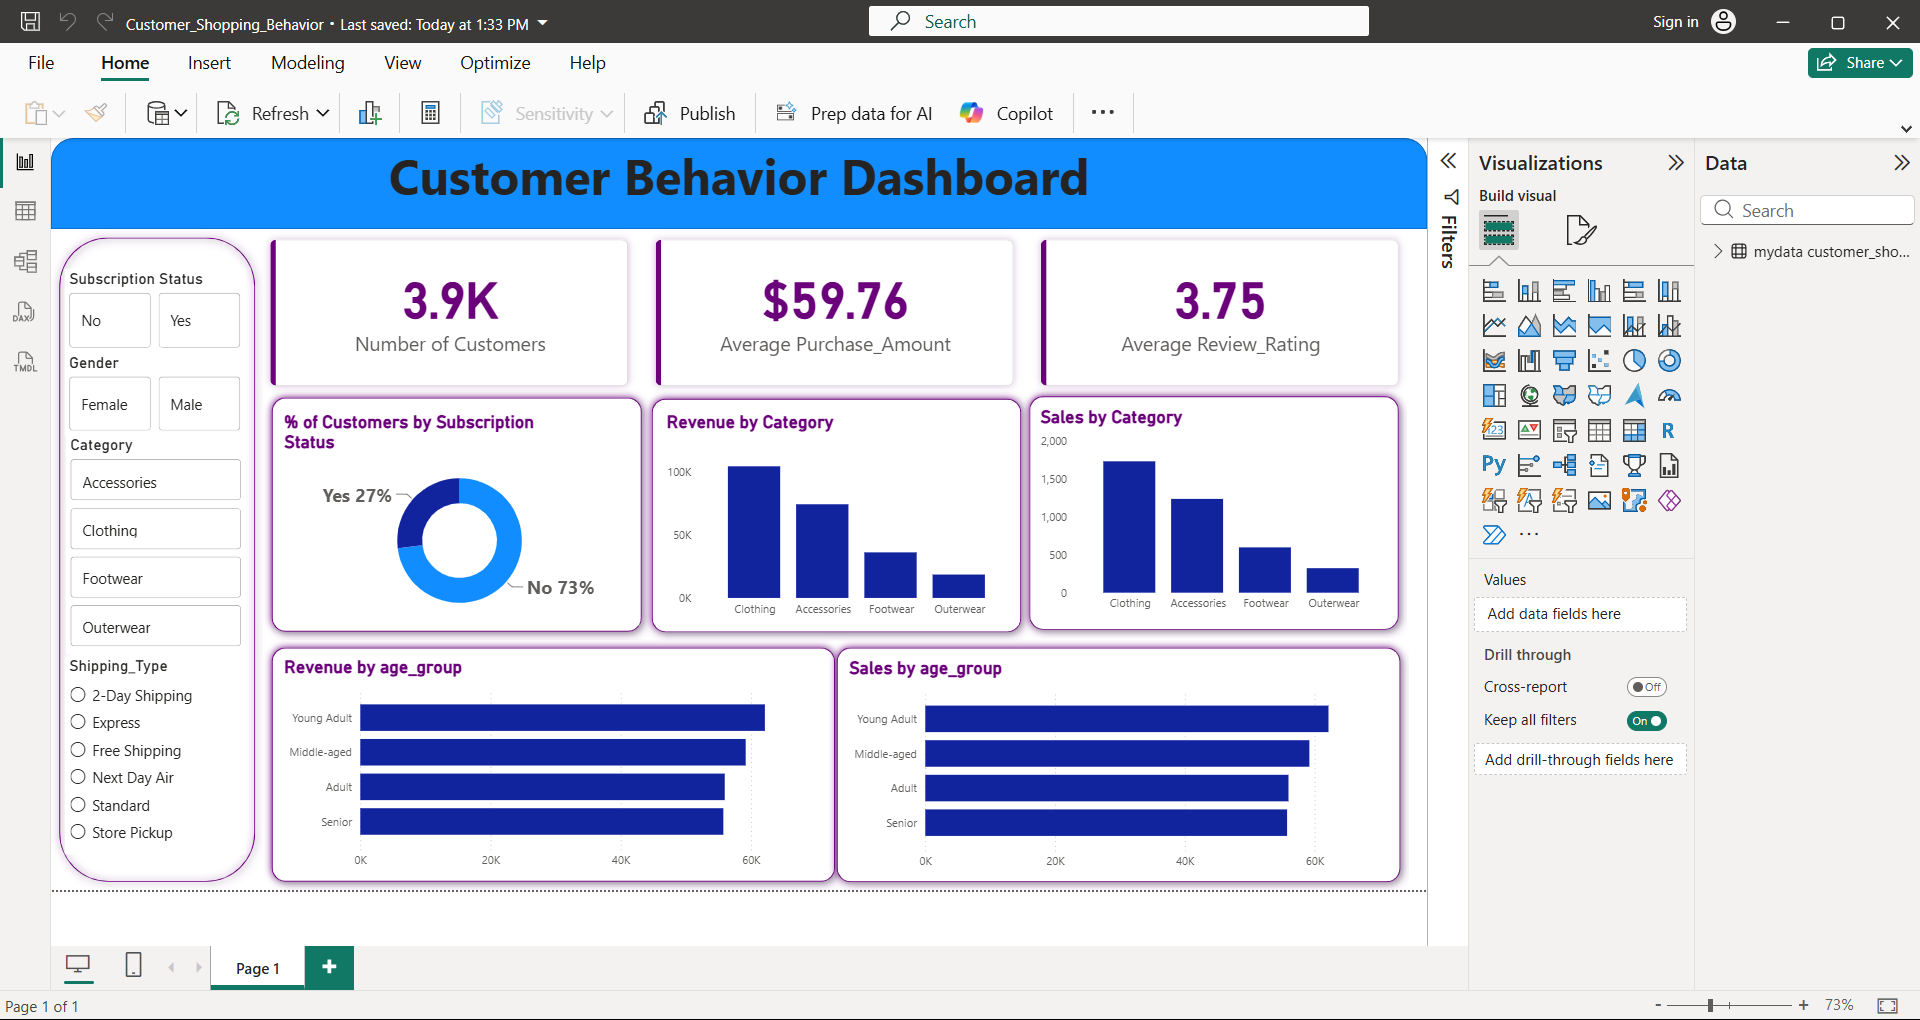

Layout of this report page (visuals, bound fields, positions):
{"tool":"powerbi","page":{"name":"Page 1","canvas":[1500,820],"ordinal":0},"visuals":[{"type":"cardVisual","fields":{"Data":["mydata customer_shopping_behavior.Number of Customers","mydata customer_shopping_behavior.Average Purchase_Amount","mydata customer_shopping_behavior.Average Review_Rating"]},"box":[211.7,86,1288.8,213],"z":0},{"type":"shape","box":[0,0,1500.3,99.5],"z":1000},{"type":"textbox","box":[0,0,1500.3,99.5],"z":2000},{"type":"shape","box":[231.6,272.6,420.8,272.6],"z":3000},{"type":"donutChart","title":"% of Customers by Subscription Status","fields":{"Category":["mydata customer_shopping_behavior.Subscription_Status"],"Y":["CountNonNull(mydata customer_shopping_behavior.Customer_ID)"]},"box":[249.3,299.1,392.4,233.2],"z":4000},{"type":"shape","box":[645.7,272.6,420.8,272.6],"z":5000},{"type":"shape","box":[1058.6,273.9,419.5,272.6],"z":6000},{"type":"clusteredColumnChart","title":"Revenue by Category","fields":{"Y":["Sum(mydata customer_shopping_behavior.Purchase_Amount_(USD))"],"Category":["mydata customer_shopping_behavior.Category"]},"box":[665.7,299.1,389.2,233.2],"z":7000},{"type":"clusteredColumnChart","title":"Sales by Category","fields":{"Y":["CountNonNull(mydata customer_shopping_behavior.Customer_ID)"],"Category":["mydata customer_shopping_behavior.Category"]},"box":[1074.5,292.4,389,232.9],"z":8000},{"type":"shape","box":[0,99.7,231.6,720.4],"z":9000},{"type":"advancedSlicerVisual","fields":{"Values":["mydata customer_shopping_behavior.Subscription_Status"]},"box":[14.5,143.1,197.8,91.7],"z":10000},{"type":"advancedSlicerVisual","fields":{"Values":["mydata customer_shopping_behavior.Category"]},"box":[16.1,324.8,196.2,238],"z":11000},{"type":"advancedSlicerVisual","fields":{"Values":["mydata customer_shopping_behavior.Gender"]},"box":[14.5,234.8,197.8,90.1],"z":12000},{"type":"listSlicer","fields":{"Values":["mydata customer_shopping_behavior.Shipping_Type"]},"box":[14.5,566,197.8,215.5],"z":13000},{"type":"shape","box":[231.6,546.7,632,273.4],"z":14000},{"type":"clusteredBarChart","title":"Revenue by age_group","fields":{"Y":["Sum(mydata customer_shopping_behavior.Purchase_Amount_(USD))"],"Category":["mydata customer_shopping_behavior.age_group"]},"box":[249.3,566,599.8,239.6],"z":15000},{"type":"shape","box":[848.2,546.5,632.5,273.9],"z":16000},{"type":"clusteredBarChart","title":"Sales by age_group","fields":{"Y":["Sum(mydata customer_shopping_behavior.Purchase_Amount_(USD))"],"Category":["mydata customer_shopping_behavior.age_group"]},"box":[865.4,563.7,598.1,239.5],"z":17000}]}

Visuals, with their boxes on the page's 1500x820 design canvas (x1, y1, x2, y2). These are canvas units, not pixel positions in the 1920x1020 screenshot, which may show the page scaled, cropped or inside an application window:
cardVisual - mydata customer_shopping_behavior.Number of Customers x mydata customer_shopping_behavior.Average Purchase_Amount: {"x1": 212, "y1": 86, "x2": 1500, "y2": 299}
shape: {"x1": 0, "y1": 0, "x2": 1500, "y2": 100}
textbox: {"x1": 0, "y1": 0, "x2": 1500, "y2": 100}
shape: {"x1": 232, "y1": 273, "x2": 652, "y2": 545}
"% of Customers by Subscription Status" donutChart: {"x1": 249, "y1": 299, "x2": 642, "y2": 532}
shape: {"x1": 646, "y1": 273, "x2": 1066, "y2": 545}
shape: {"x1": 1059, "y1": 274, "x2": 1478, "y2": 546}
"Revenue by Category" clusteredColumnChart: {"x1": 666, "y1": 299, "x2": 1055, "y2": 532}
"Sales by Category" clusteredColumnChart: {"x1": 1074, "y1": 292, "x2": 1464, "y2": 525}
shape: {"x1": 0, "y1": 100, "x2": 232, "y2": 820}
advancedSlicerVisual - mydata customer_shopping_behavior.Subscription_Status: {"x1": 14, "y1": 143, "x2": 212, "y2": 235}
advancedSlicerVisual - mydata customer_shopping_behavior.Category: {"x1": 16, "y1": 325, "x2": 212, "y2": 563}
advancedSlicerVisual - mydata customer_shopping_behavior.Gender: {"x1": 14, "y1": 235, "x2": 212, "y2": 325}
listSlicer - mydata customer_shopping_behavior.Shipping_Type: {"x1": 14, "y1": 566, "x2": 212, "y2": 782}
shape: {"x1": 232, "y1": 547, "x2": 864, "y2": 820}
"Revenue by age_group" clusteredBarChart: {"x1": 249, "y1": 566, "x2": 849, "y2": 806}
shape: {"x1": 848, "y1": 546, "x2": 1481, "y2": 820}
"Sales by age_group" clusteredBarChart: {"x1": 865, "y1": 564, "x2": 1464, "y2": 803}
